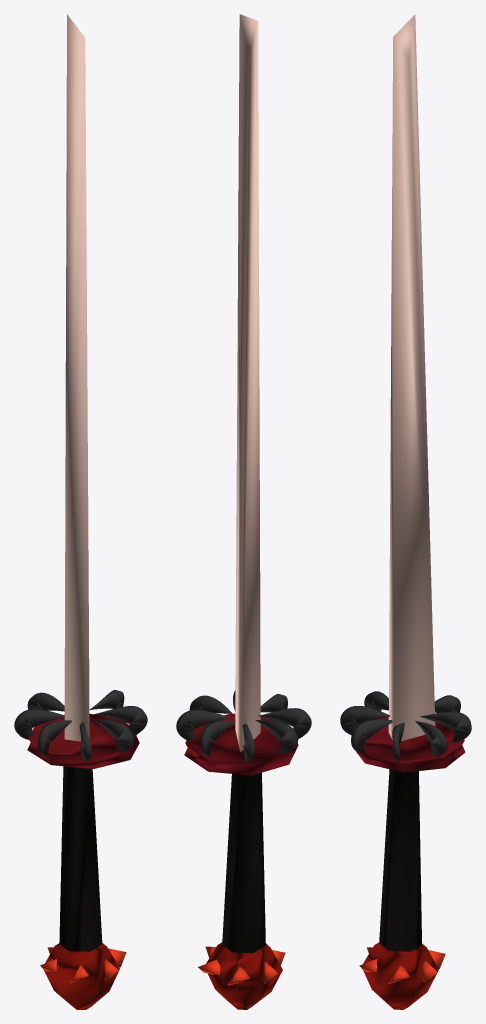
The model's file is katana.obj.
The picture shows the model from 3 angles, left to right: view 1: azimuth 30°, elevation 25°; view 2: azimuth 210°, elevation 25°; view 3: azimuth 330°, elevation 25°; orthographic projection.
Visible parts, largest first — view 1: s.0052, r.0014, s.0031, r.0013, r.0015, s.0049; view 2: s.0052, r.0014, s.0031, r.0015, r.0013, s.0049; view 3: s.0052, r.0014, s.0031, r.0013, r.0015, s.0049.
Boxes of the visible parts, left/top/right/bottom form: s.0052: left=64, top=14, right=89, bottom=741; r.0014: left=59, top=766, right=102, bottom=951; s.0031: left=14, top=690, right=147, bottom=761; r.0013: left=43, top=943, right=119, bottom=1009; r.0015: left=27, top=714, right=139, bottom=768; s.0049: left=40, top=947, right=126, bottom=983; s.0052: left=235, top=14, right=260, bottom=751; r.0014: left=222, top=772, right=265, bottom=952; s.0031: left=176, top=690, right=311, bottom=761; r.0015: left=184, top=713, right=298, bottom=775; r.0013: left=206, top=942, right=282, bottom=1009; s.0049: left=198, top=946, right=285, bottom=985; s.0052: left=388, top=14, right=435, bottom=741; r.0014: left=379, top=769, right=421, bottom=951; s.0031: left=340, top=691, right=471, bottom=761; r.0013: left=363, top=942, right=438, bottom=1009; r.0015: left=355, top=717, right=465, bottom=772; s.0049: left=359, top=947, right=445, bottom=983.
Size of the model in its own units: 2.94 by 25.33 by 2.94.
